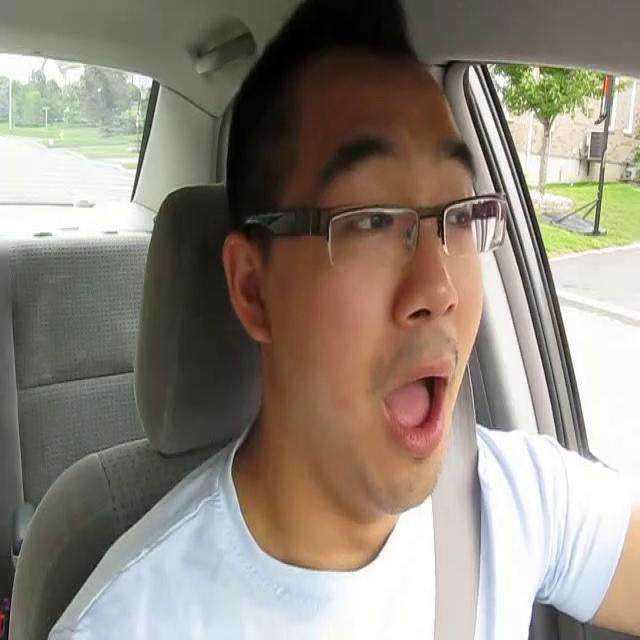yawn: (379, 354, 454, 454)
